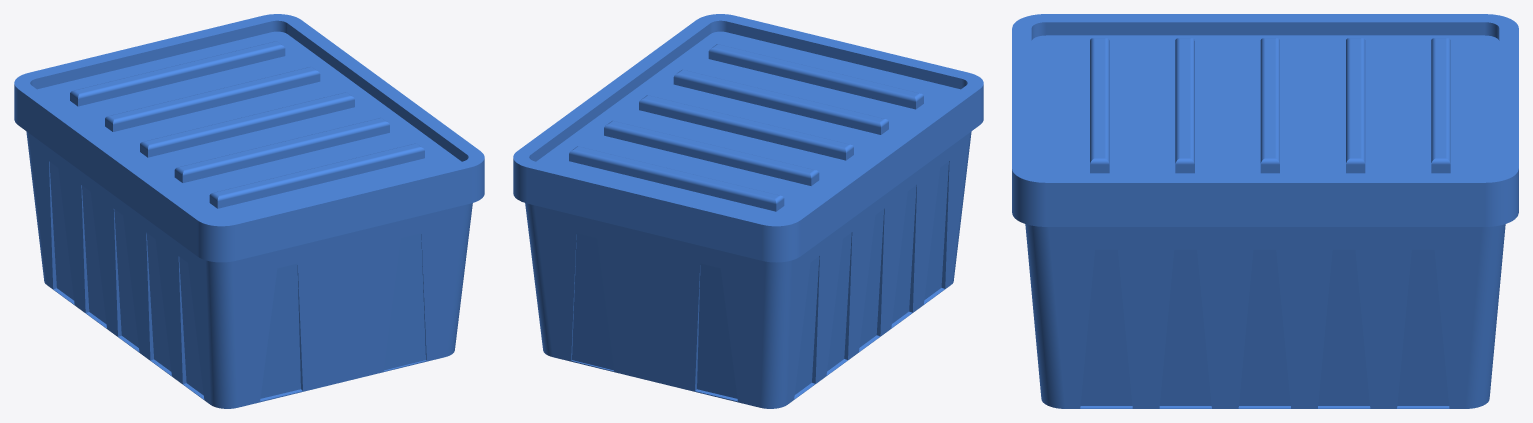
File: container v2.fbx
The picture shows the model from 3 angles, left to right: view 1: azimuth 30°, elevation 25°; view 2: azimuth 150°, elevation 25°; view 3: azimuth 270°, elevation 25°; orthographic projection. The views are drawn at different scales.
Parts seen in each view (by area): view 1: Body2, Body1; view 2: Body2, Body1; view 3: Body2, Body1.
Boxes of the visible parts, left/top/right/bottom form: Body2: left=14, top=14, right=484, bottom=262; Body1: left=26, top=131, right=472, bottom=408; Body2: left=513, top=14, right=983, bottom=262; Body1: left=525, top=131, right=971, bottom=408; Body2: left=1012, top=14, right=1518, bottom=226; Body1: left=1025, top=224, right=1505, bottom=408.
Bounding box in the file's own units: 410 × 270 × 520.
